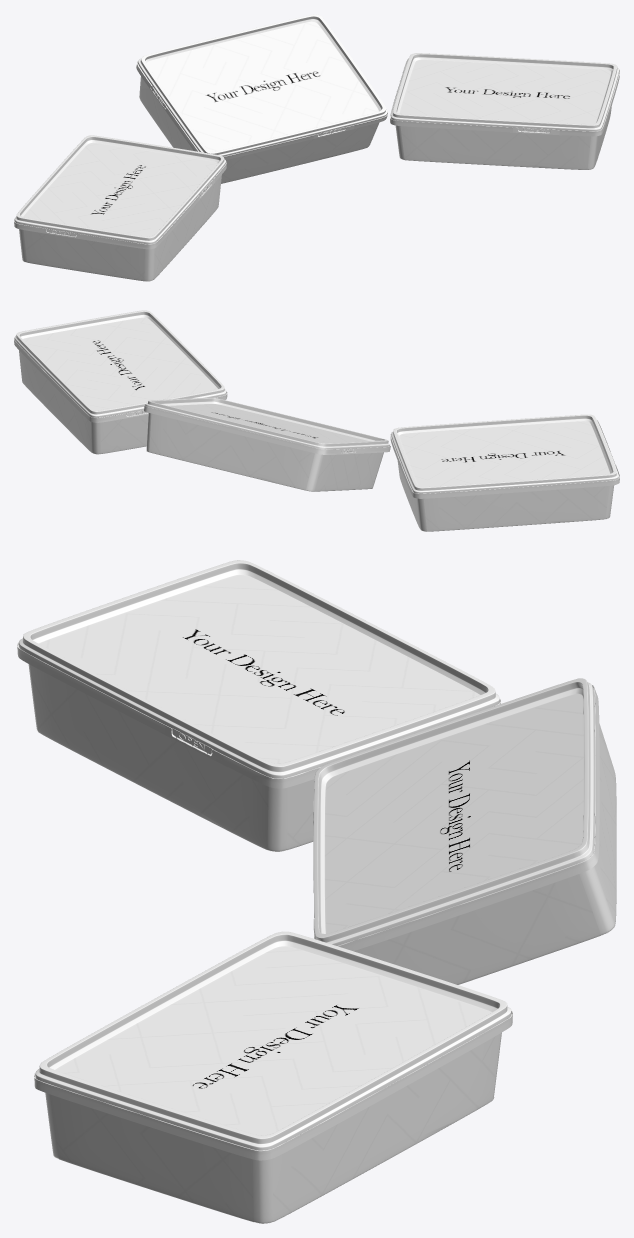
The model's file is TE Angle-4 .glb.
The picture shows the model from 3 angles, top to bottom: view 1: azimuth 30°, elevation 25°; view 2: azimuth 150°, elevation 25°; view 3: azimuth 270°, elevation 25°; orthographic projection. The views are drawn at different scales.
Parts seen in each view (by area): view 1: wrapper.001, wrapper.003, wrapper.002, lid.001, lid.003, lid.002, Plane.048, Plane.024, Plane.001, Bottom.002, Bottom.003; view 2: wrapper.002, wrapper.003, wrapper.001, lid.002, lid.003, lid.001, Plane.001, Plane.024, Plane.048, Bottom.001, Bottom.002, Bottom.003; view 3: wrapper.003, wrapper.002, wrapper.001, lid.003, lid.002, lid.001, Plane.048, Plane.001, Plane.024, Bottom.003, Bottom.002, Bottom.001.
Boxes of the visible parts, x1,y1,x2,y2 form: wrapper.001: [139, 21, 378, 183]; wrapper.003: [395, 59, 611, 169]; wrapper.002: [22, 142, 221, 281]; lid.001: [138, 14, 387, 156]; lid.003: [391, 53, 619, 131]; lid.002: [14, 135, 226, 244]; Plane.048: [390, 59, 619, 136]; Plane.024: [14, 161, 226, 249]; Plane.001: [136, 60, 388, 159]; Bottom.002: [19, 229, 154, 281]; Bottom.003: [395, 125, 597, 169]; wrapper.002: [397, 421, 610, 531]; wrapper.003: [19, 317, 217, 454]; wrapper.001: [146, 404, 383, 491]; lid.002: [391, 414, 618, 493]; lid.003: [14, 310, 226, 417]; lid.001: [145, 397, 389, 449]; Plane.001: [144, 405, 390, 454]; Plane.024: [390, 420, 619, 498]; Plane.048: [14, 338, 227, 422]; Bottom.001: [146, 413, 383, 491]; Bottom.002: [416, 485, 613, 531]; Bottom.003: [91, 422, 101, 454]; wrapper.003: [50, 946, 500, 1223]; wrapper.002: [30, 574, 480, 851]; wrapper.001: [324, 693, 616, 984]; lid.003: [35, 931, 511, 1150]; lid.002: [19, 560, 499, 778]; lid.001: [313, 678, 594, 945]; Plane.048: [34, 1010, 512, 1160]; Plane.001: [313, 685, 599, 951]; Plane.024: [17, 642, 500, 788]; Bottom.003: [45, 1032, 501, 1223]; Bottom.002: [28, 664, 288, 851]; Bottom.001: [579, 866, 614, 934].
Size of the model in its own units: 0.5985 by 0.0849 by 0.2598.
3 materials, 1 textured.
